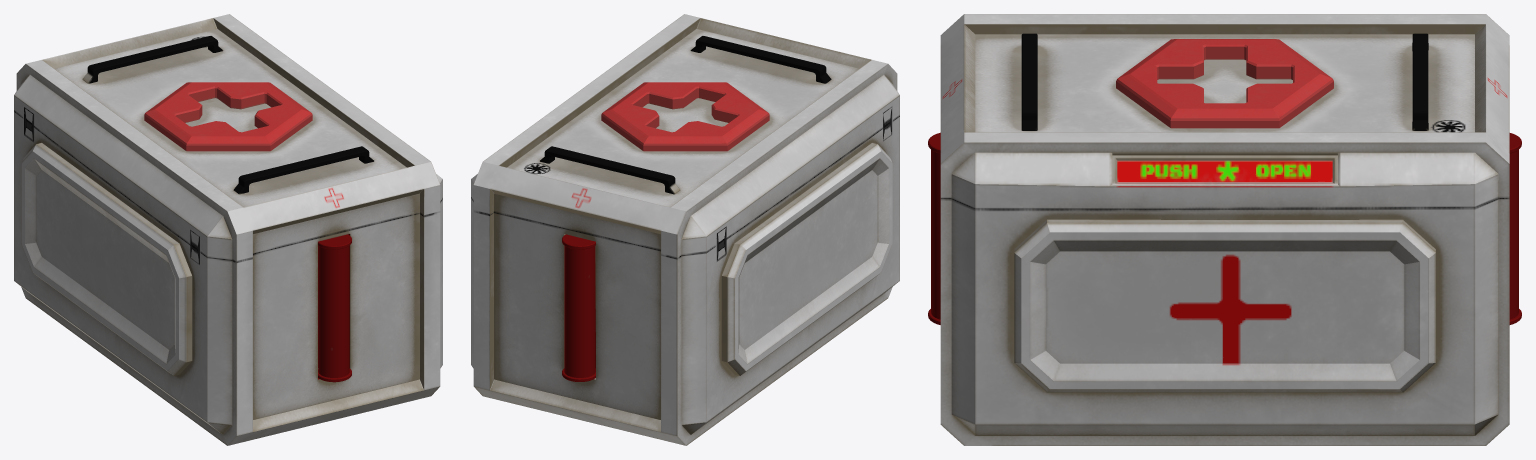
3 renders of one model, left to right at view 1: azimuth 30°, elevation 25°; view 2: azimuth 150°, elevation 25°; view 3: azimuth 270°, elevation 25°, orthographic. The views are drawn at different scales.
Parts seen in each view (by area): view 1: f_medbox; view 2: f_medbox; view 3: f_medbox.
Boxes of the visible parts, left/top/right/bottom form: f_medbox: left=14, top=14, right=442, bottom=445; f_medbox: left=471, top=14, right=899, bottom=445; f_medbox: left=928, top=14, right=1521, bottom=445.
Size of the model in its own units: 0.098 by 0.0875 by 0.152.
1 material, 1 textured.
